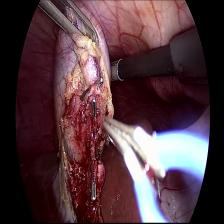Bipolar: (100, 113, 210, 224)
Grasper: (36, 0, 101, 52)
